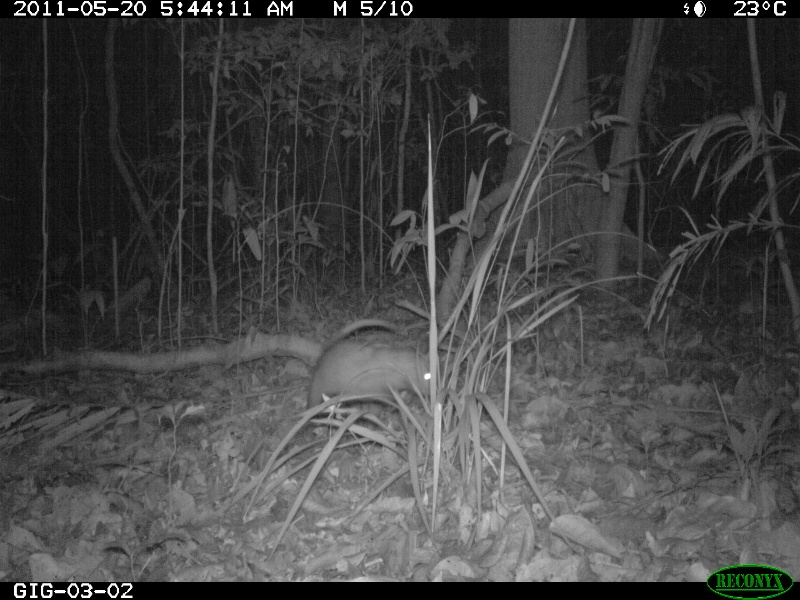opossum: (303, 318, 448, 409)
